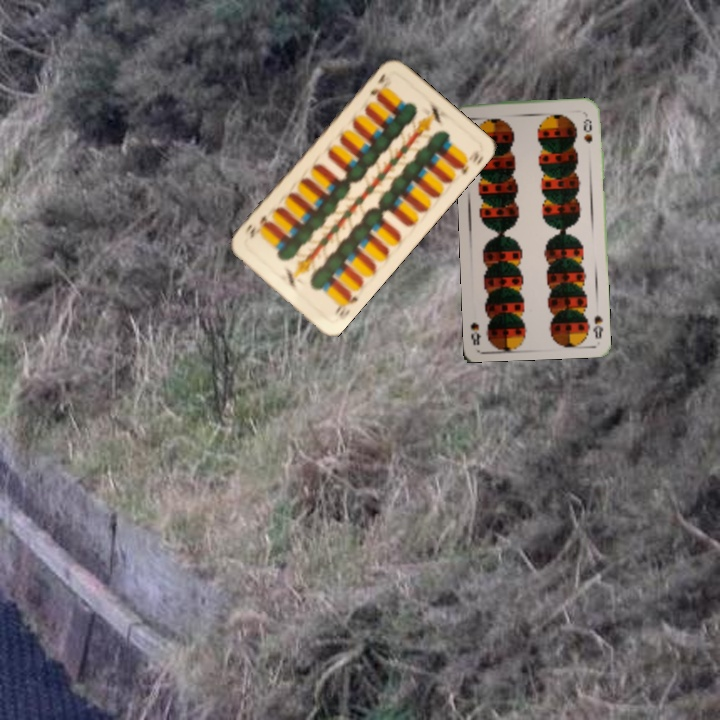E10: (330, 287, 360, 322), (366, 70, 388, 101)
S8: (589, 311, 605, 341)
